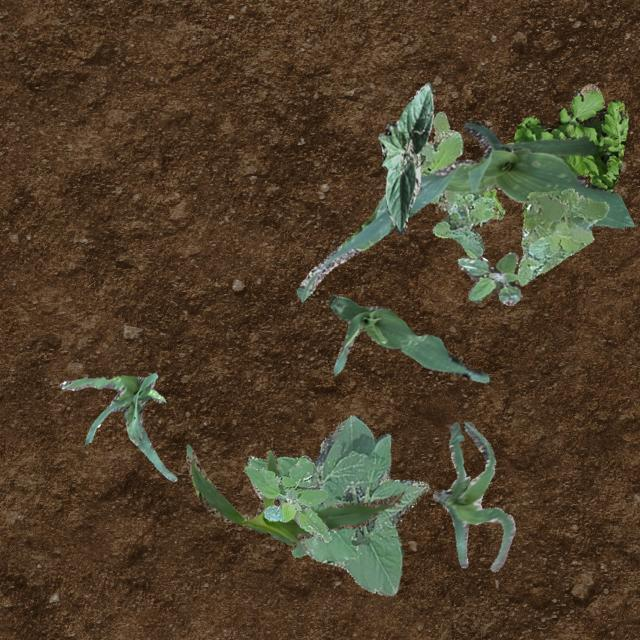crop: (296, 120, 634, 300), (247, 414, 428, 594), (184, 444, 403, 544), (328, 294, 488, 382), (58, 372, 175, 480), (432, 420, 514, 570), (377, 82, 432, 234)
weed: (478, 82, 628, 218), (418, 110, 494, 256), (516, 188, 608, 284), (242, 454, 330, 542), (290, 438, 328, 556), (456, 250, 520, 304)
